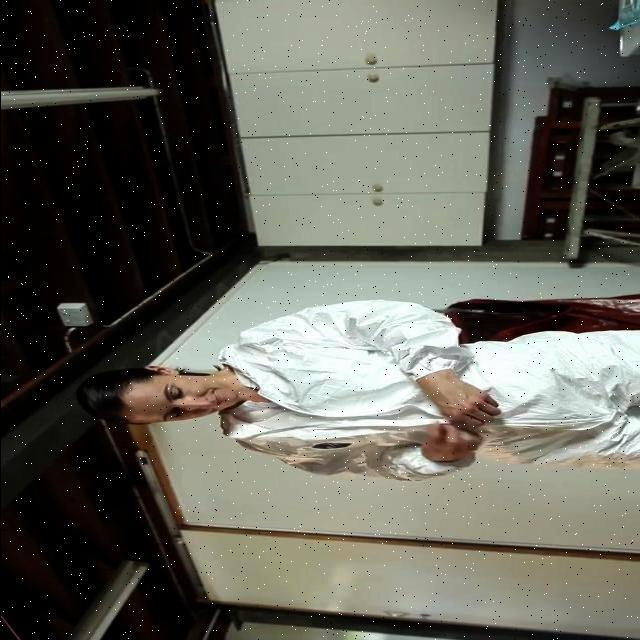no_apron: (413, 374, 491, 420), (412, 426, 482, 460)
no_hairnet: (184, 381, 240, 418)
